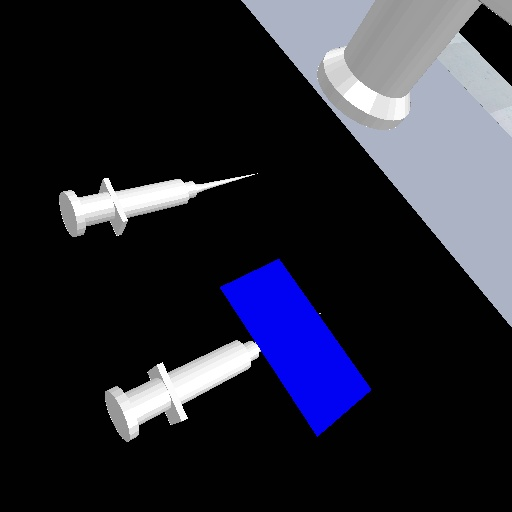jeringuilla: (101, 336, 266, 444), (53, 165, 266, 241)
